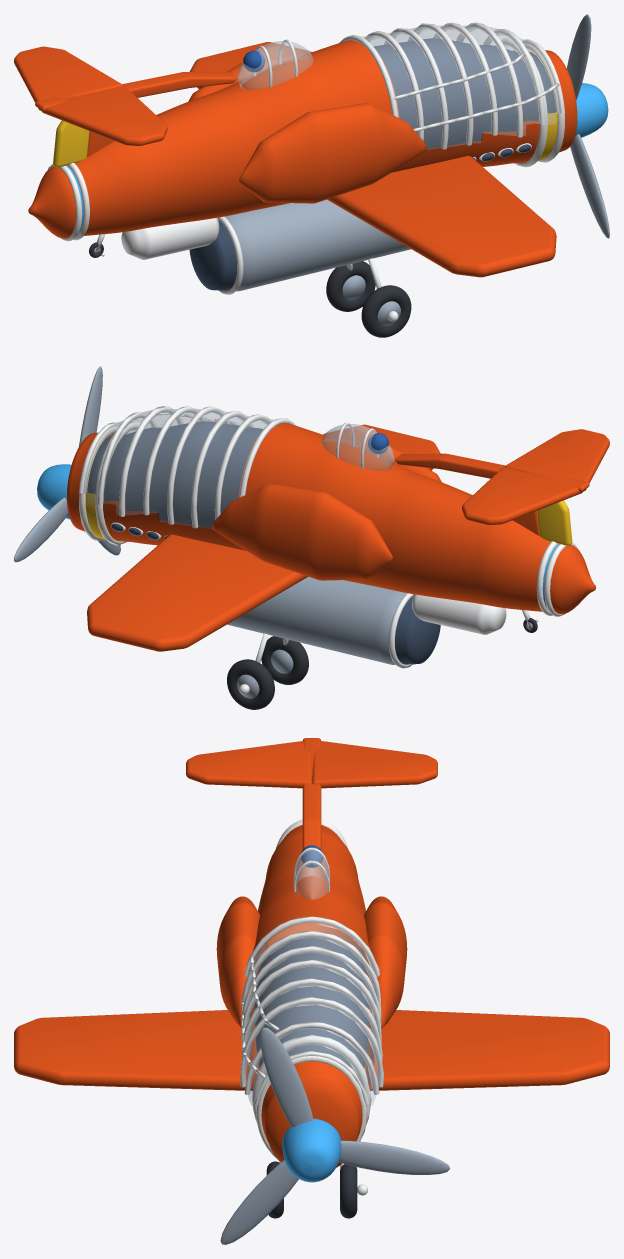
The model's file is vesper.glb.
3 renders of one model, top to bottom at view 1: azimuth 30°, elevation 25°; view 2: azimuth 150°, elevation 25°; view 3: azimuth 270°, elevation 25°, orthographic. The views are drawn at different scales.
Visible parts, largest first — view 1: body 2, wing.002, greenhouse, cheek 0, cabin, belly tank 1, wing, wing.001, jet 0, body 0, canopy, belly tank 0 (+25 smaller); view 2: body 2, wing.003, greenhouse, cheek r 0, cabin, belly tank 1, wing.001, wing, jet 0, body 0, canopy, belly tank 0 (+24 smaller); view 3: wing.003, wing.002, greenhouse, body 2, cabin, wing, wing.001, body 4, cheek r 0, cheek 0, spinner, blade (+14 smaller).
Boxes of the visible parts, left/top/right/bottom form: body 2: left=75, top=40, right=539, bottom=235; wing.002: left=327, top=155, right=556, bottom=277; greenhouse: left=362, top=25, right=560, bottom=149; cheek 0: left=239, top=103, right=426, bottom=203; cabin: left=373, top=38, right=556, bottom=148; belly tank 1: left=224, top=199, right=410, bottom=291; wing: left=41, top=86, right=167, bottom=145; wing.001: left=14, top=46, right=122, bottom=110; jet 0: left=121, top=217, right=219, bottom=259; body 0: left=28, top=166, right=75, bottom=238; canopy: left=237, top=41, right=313, bottom=89; belly tank 0: left=189, top=220, right=236, bottom=290; body 2: left=103, top=423, right=550, bottom=611; wing.003: left=87, top=534, right=307, bottom=651; greenhouse: left=83, top=409, right=273, bottom=528; cheek r 0: left=212, top=483, right=392, bottom=580; cabin: left=87, top=421, right=263, bottom=527; belly tank 1: left=227, top=576, right=406, bottom=664; wing.001: left=462, top=467, right=583, bottom=525; wing: left=505, top=429, right=609, bottom=490; jet 0: left=412, top=594, right=506, bottom=634; body 0: left=550, top=545, right=595, bottom=614; canopy: left=321, top=424, right=394, bottom=470; belly tank 0: left=395, top=596, right=440, bottom=664; wing.003: left=364, top=1010, right=609, bottom=1090; wing.002: left=14, top=1010, right=259, bottom=1090; greenhouse: left=243, top=922, right=381, bottom=1105; body 2: left=248, top=825, right=375, bottom=1091; cabin: left=255, top=937, right=368, bottom=1071; wing: left=186, top=741, right=311, bottom=788; wing.001: left=312, top=741, right=437, bottom=788; body 4: left=261, top=1061, right=362, bottom=1167; cheek r 0: left=355, top=896, right=407, bottom=1028; cheek 0: left=216, top=896, right=268, bottom=1027; spinner: left=282, top=1118, right=341, bottom=1182; blade: left=260, top=1027, right=313, bottom=1127.
Bounding box in the file's own units: 6 × 3.04 × 5.2.
